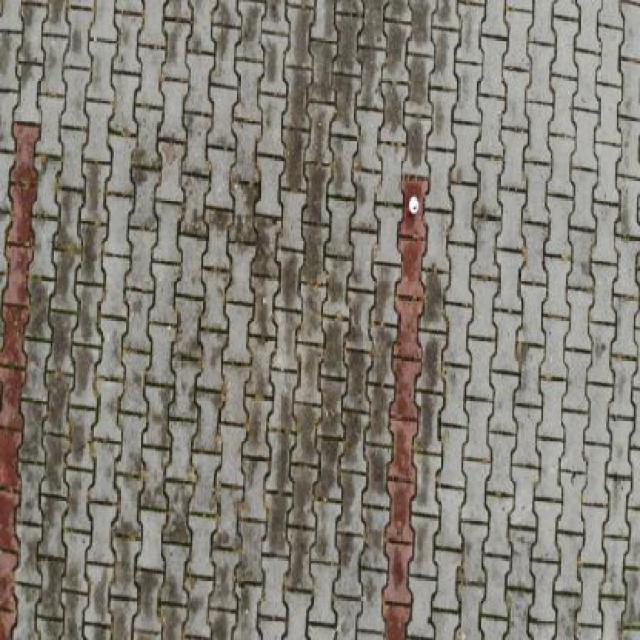Garbage: (409, 195, 420, 217)
